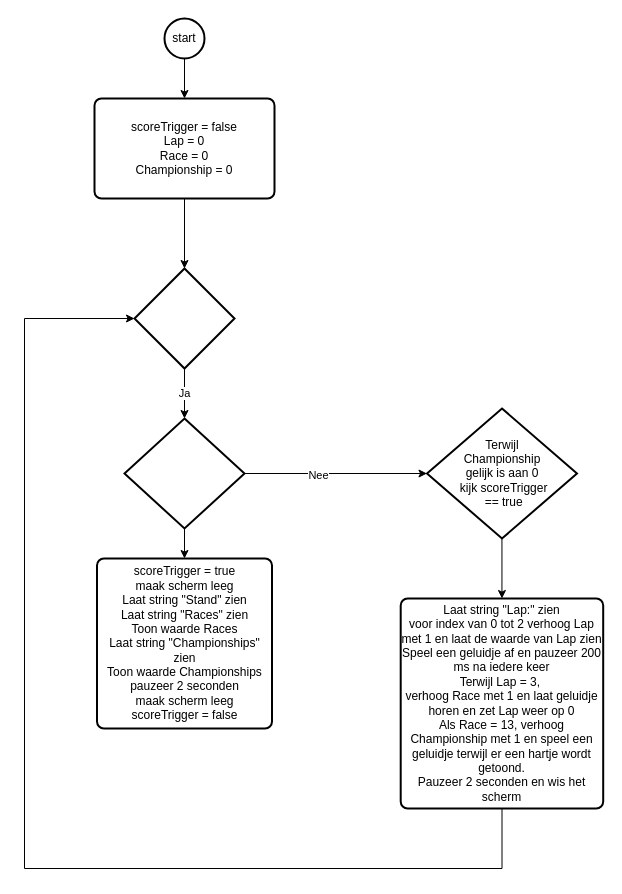
Image size: 622x894. Some labels were removed from this diagram. Each missing label, with the box of its shape:
Geschud?: (123, 417, 245, 529)
Knop A+B ingedrukt?: (133, 267, 235, 369)
